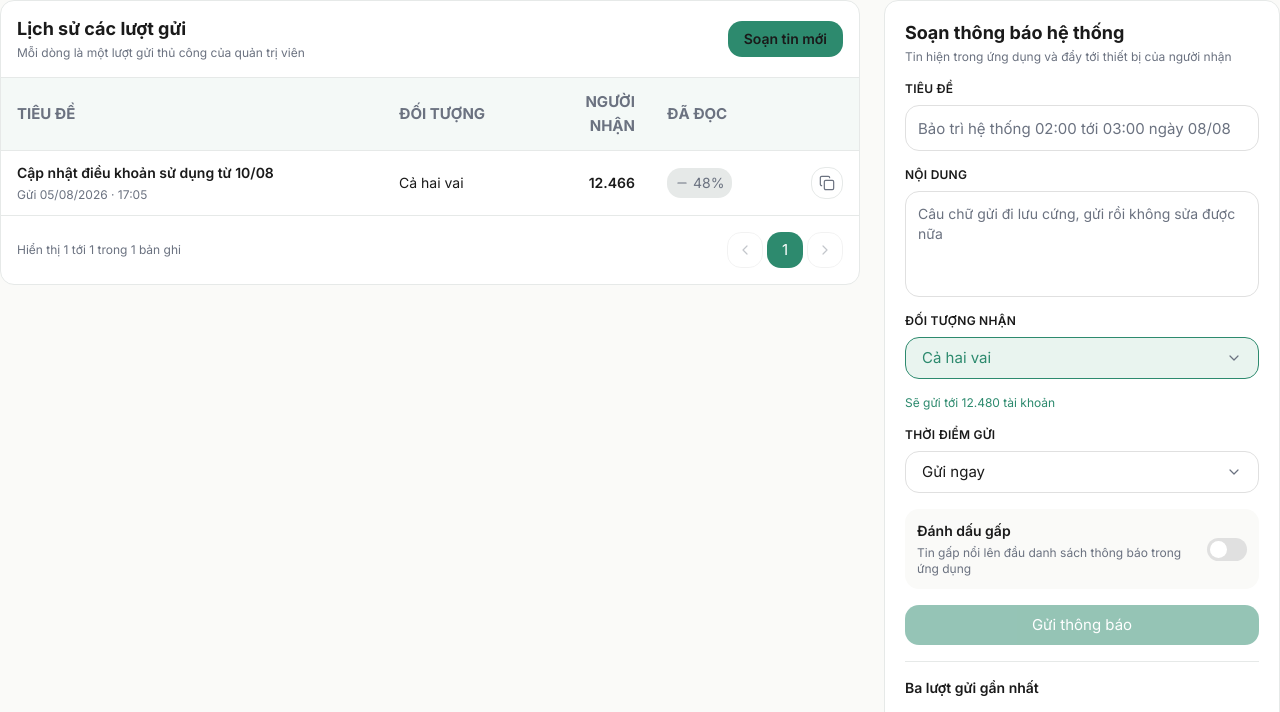
Test: Gửi thông báo hệ thống › hộp thoại xác nhận đọc đúng số người nhận máy chủ trả về
Expected: the text "Sẽ gửi tới 12.480 tài khoản" is shown, [905,395,1055,410]
Click the field with placeholder "Bảo trì hệ thống 02:00 tới 03:00 ngày 08/08" at (1082,128), box [905,105,1259,151]
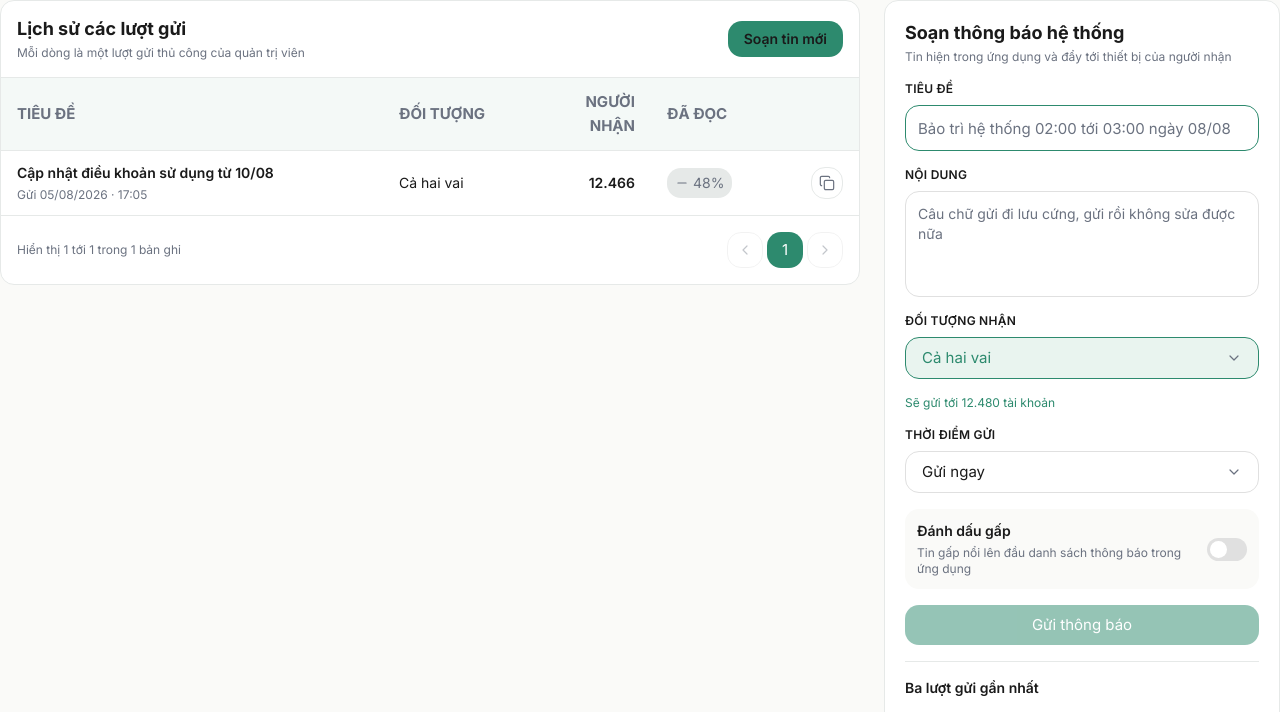
Type keys "Bảo trì hệ thống tối 08/08"
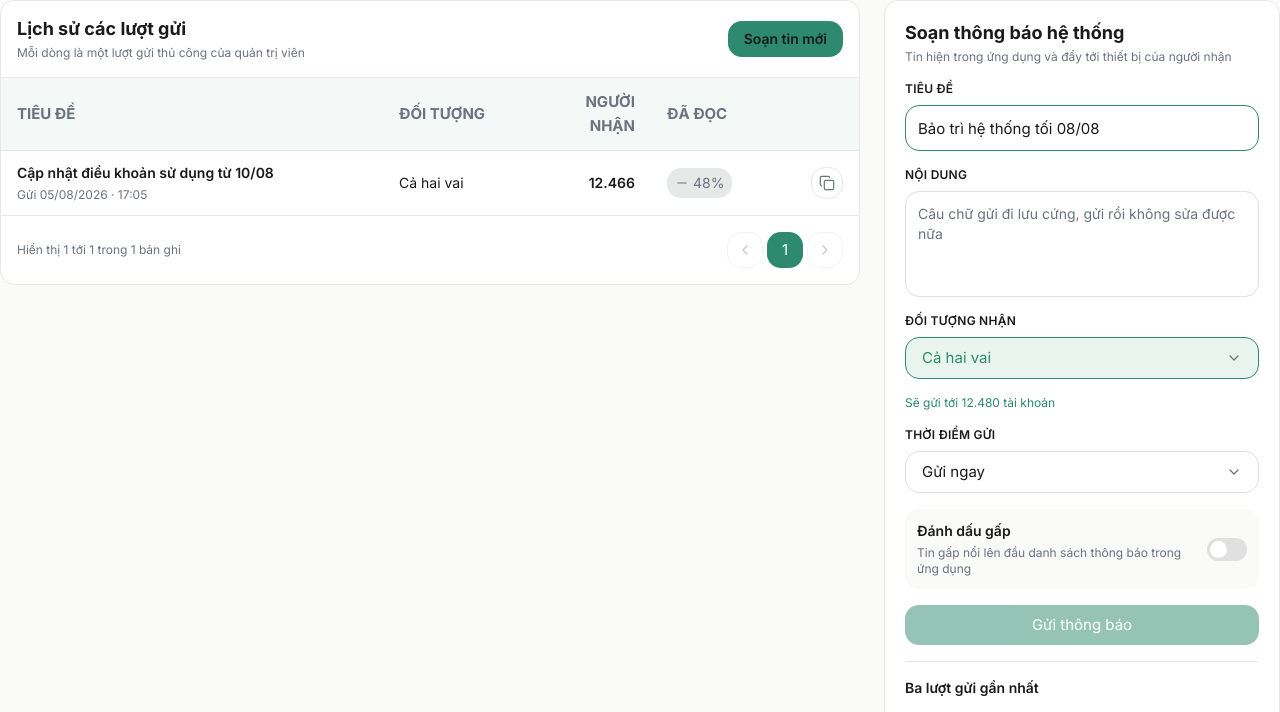
Click the text box with placeholder "Câu chữ gửi đi lưu cứng, gửi rồi không sửa được nữa" at (1082,244), box [905,191,1259,297]
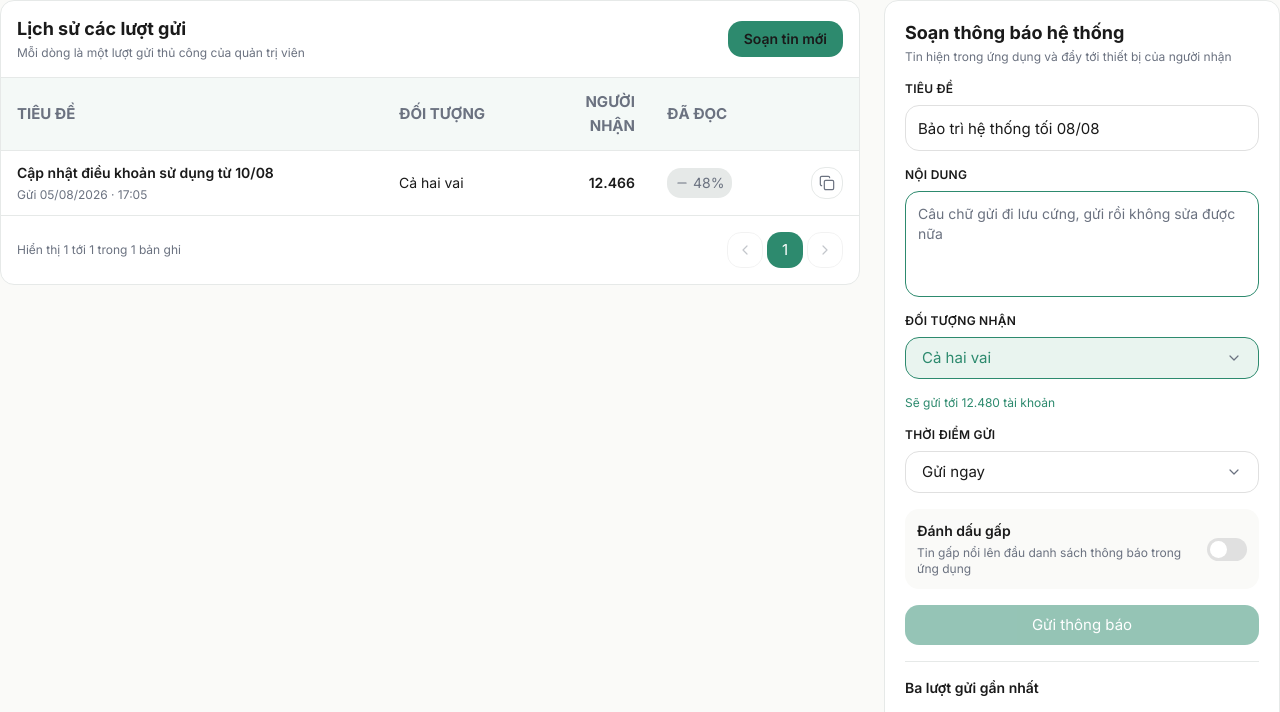
Type keys "Hệ thống tạm dừng nhận đơn mới từ 02:00 tới 03:00 ngày 08/08."
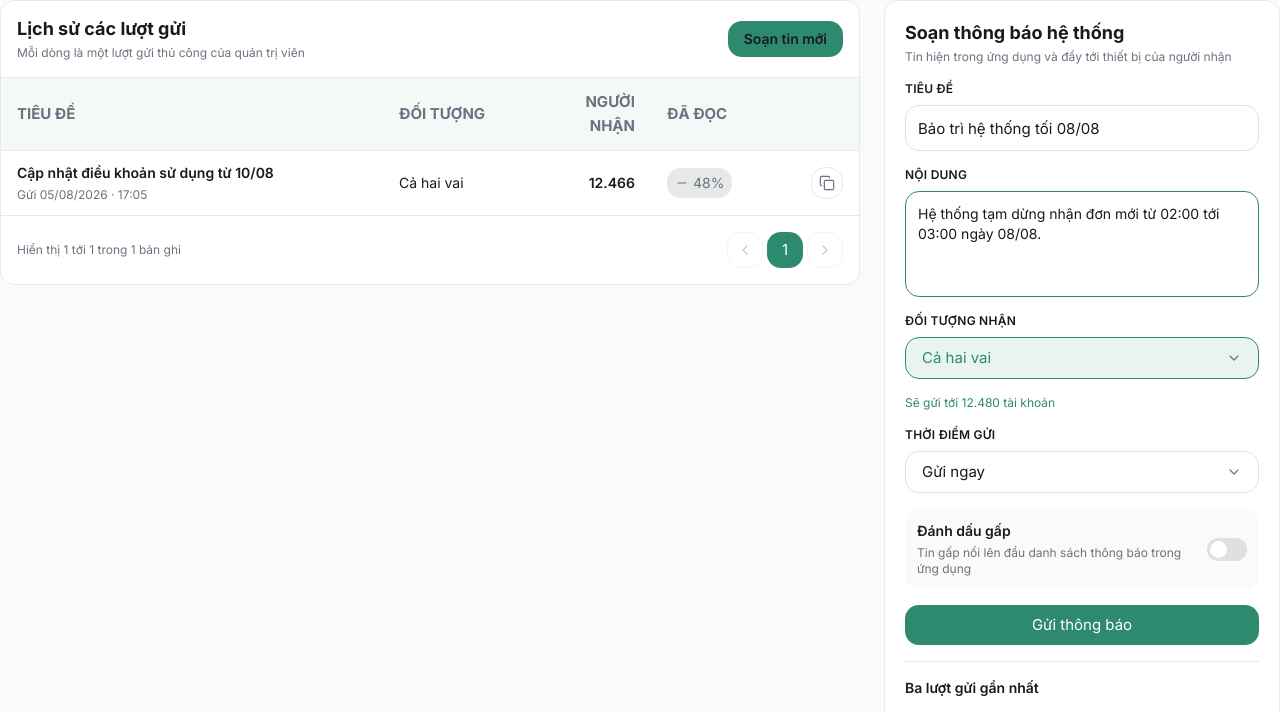
Click the button "Gửi thông báo" at (1082,625), box [905,605,1259,645]
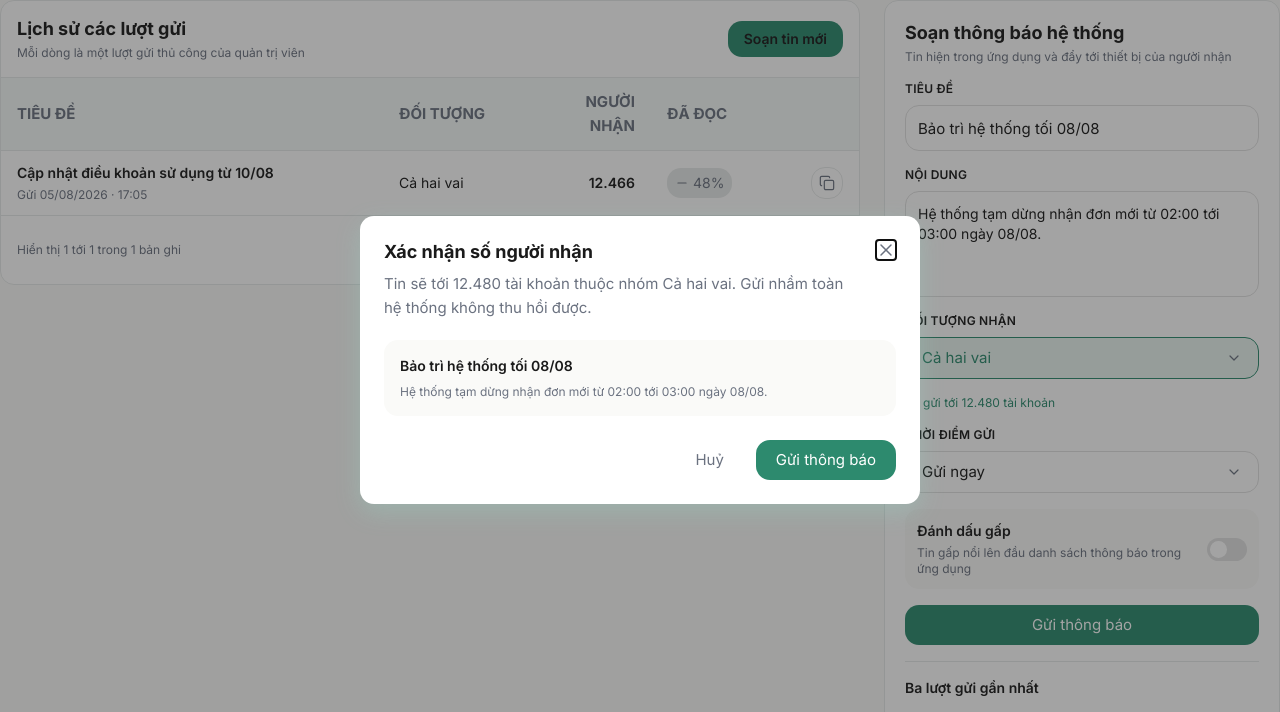
Expected: the text "không thu hồi được" is shown, [384,274,843,317]
Expected: the text "Bảo trì hệ thống tối 08/08" is shown, [400,357,573,374]
